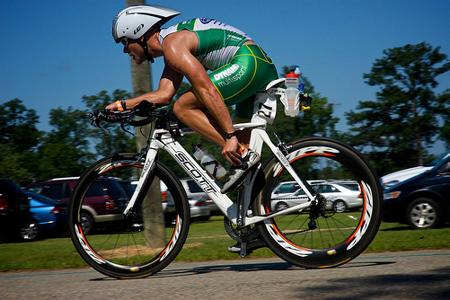person: (101, 3, 281, 260)
